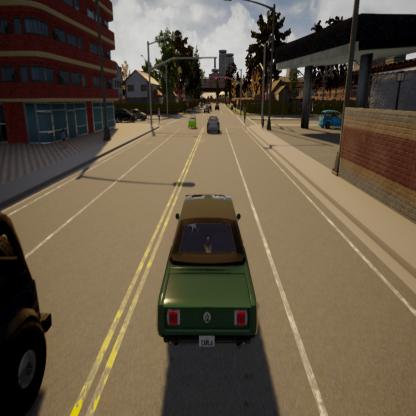Cars: (157, 191, 260, 350), (0, 208, 53, 416), (320, 109, 342, 130), (116, 106, 134, 124), (206, 116, 221, 135), (130, 108, 147, 121), (187, 115, 198, 129)
Pedestrian: (59, 124, 68, 149), (242, 102, 247, 126), (157, 107, 161, 126), (261, 115, 265, 132)
